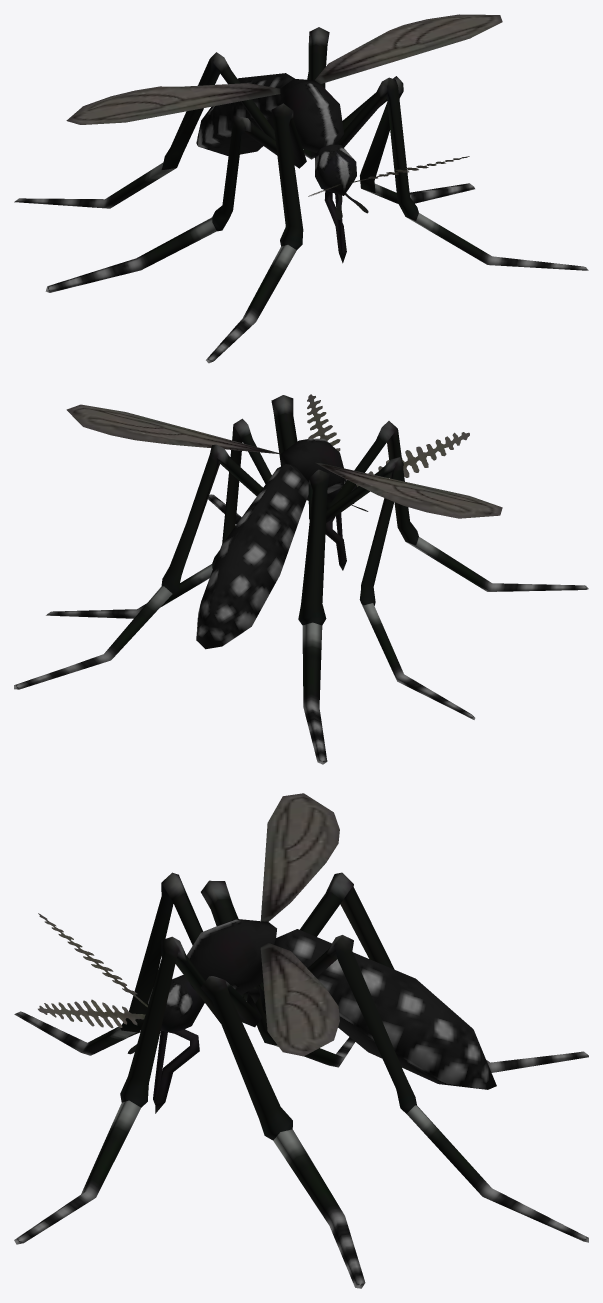
Rendered from mosquito.glb.
The picture shows the model from 3 angles, top to bottom: view 1: azimuth 30°, elevation 25°; view 2: azimuth 150°, elevation 25°; view 3: azimuth 270°, elevation 25°; orthographic projection. The views are drawn at different scales.
Bounding box in the file's own units: 1.15 × 0.5193 × 1.06.
1 material, 1 textured.
